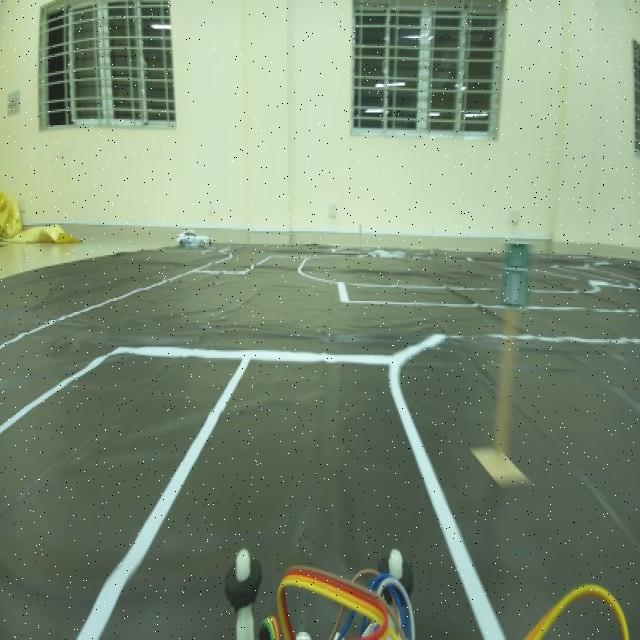highway_entry: (501, 236, 535, 325)
